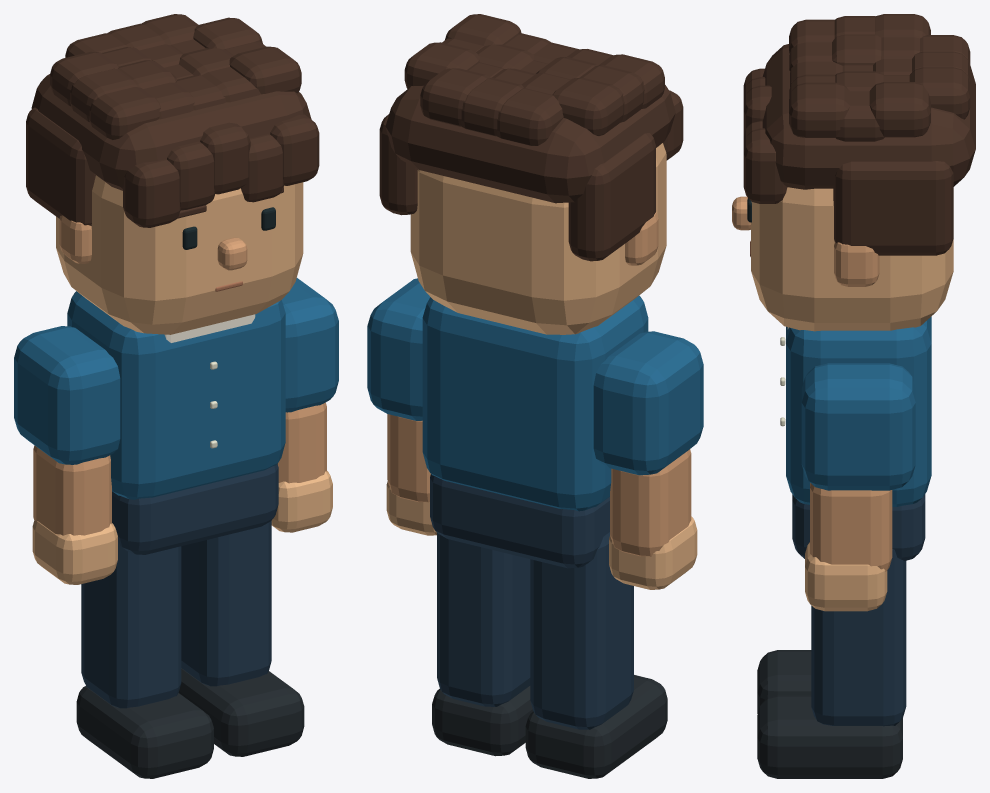
File: employee_base.glb
3 views of the same model, side by side, from view 1: azimuth 30°, elevation 25°; view 2: azimuth 150°, elevation 25°; view 3: azimuth 270°, elevation 25° (orthographic). The views are drawn at different scales.
Parts seen in each view (by area): view 1: employee_base__hair, employee_base__shirt, employee_base__skin_light.002, employee_base__pants, employee_base__pants.001, employee_base__shirt.001, employee_base__pants.002, employee_base__shoe, employee_base__shoe.001, employee_base__shirt.002, employee_base__skin, employee_base__skin_light (+5 smaller); view 2: employee_base__hair, employee_base__shirt, employee_base__skin_light.002, employee_base__pants, employee_base__pants.001, employee_base__shirt.001, employee_base__pants.002, employee_base__shoe, employee_base__shirt.002, employee_base__skin, employee_base__shoe.001, employee_base__skin_light (+3 smaller); view 3: employee_base__hair, employee_base__skin_light.002, employee_base__shirt.002, employee_base__pants.001, employee_base__shirt, employee_base__shoe.001, employee_base__skin.001, employee_base__skin_light.001, employee_base__pants.002, employee_base__shoe, employee_base__skin.003.
Boxes of the visible parts, x1,y1,x2,y2 form: employee_base__hair: [26, 14, 319, 227]; employee_base__shirt: [67, 291, 285, 499]; employee_base__skin_light.002: [56, 175, 303, 334]; employee_base__pants: [81, 541, 181, 708]; employee_base__pants.001: [181, 521, 271, 686]; employee_base__shirt.001: [14, 326, 120, 464]; employee_base__pants.002: [112, 464, 278, 554]; employee_base__shoe: [76, 686, 213, 778]; employee_base__shoe.001: [178, 668, 304, 756]; employee_base__shirt.002: [282, 278, 338, 412]; employee_base__skin: [33, 445, 111, 535]; employee_base__skin_light: [32, 519, 117, 584]; employee_base__hair: [379, 14, 683, 261]; employee_base__shirt: [422, 295, 648, 511]; employee_base__skin_light.002: [410, 143, 666, 334]; employee_base__pants: [530, 532, 633, 729]; employee_base__pants.001: [437, 533, 530, 706]; employee_base__shirt.001: [593, 331, 703, 475]; employee_base__pants.002: [430, 474, 609, 568]; employee_base__shoe: [525, 675, 667, 778]; employee_base__shirt.002: [367, 278, 430, 420]; employee_base__skin: [610, 449, 691, 556]; employee_base__shoe.001: [432, 686, 532, 756]; employee_base__skin_light: [609, 516, 697, 589]; employee_base__hair: [743, 14, 975, 255]; employee_base__skin_light.002: [751, 187, 953, 331]; employee_base__shirt.002: [801, 363, 915, 490]; employee_base__pants.001: [811, 549, 906, 726]; employee_base__shirt: [786, 316, 931, 506]; employee_base__shoe.001: [757, 695, 902, 778]; employee_base__skin.001: [810, 483, 892, 571]; employee_base__skin_light.001: [805, 542, 887, 611]; employee_base__pants.002: [792, 494, 925, 560]; employee_base__shoe: [757, 650, 811, 713]; employee_base__skin.003: [732, 196, 879, 286].
Bounding box in the file's own units: 0.535 × 1.2 × 0.385.
